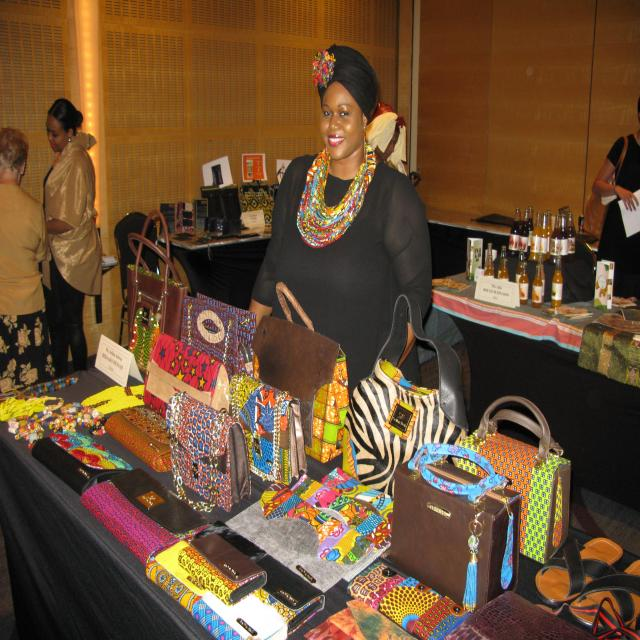body: (246, 43, 434, 405), (41, 97, 103, 376), (0, 126, 49, 394), (591, 92, 640, 297), (362, 99, 409, 179), (594, 260, 614, 310), (467, 238, 483, 280), (208, 163, 225, 187)
